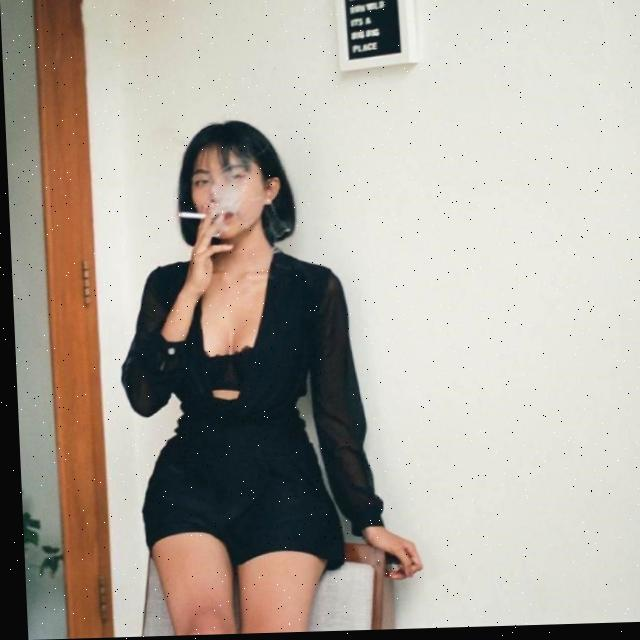cigarette: (176, 212, 206, 221)
